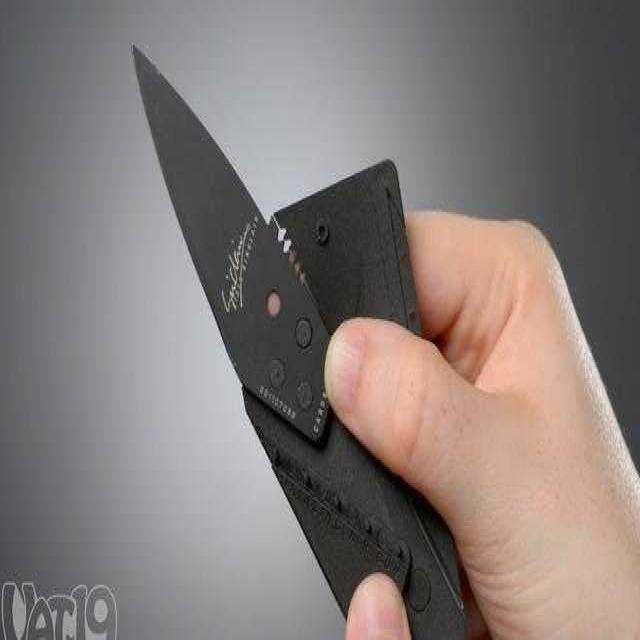Knife: (127, 28, 498, 640)
